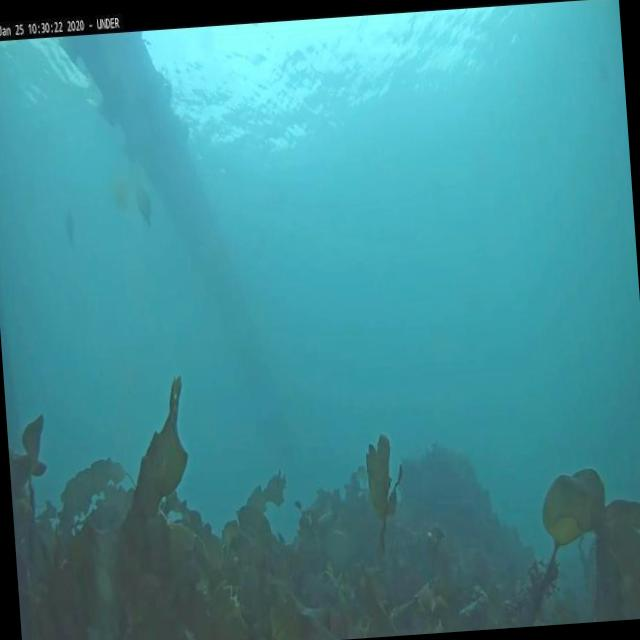fish: (133, 184, 157, 237), (58, 202, 78, 254)
